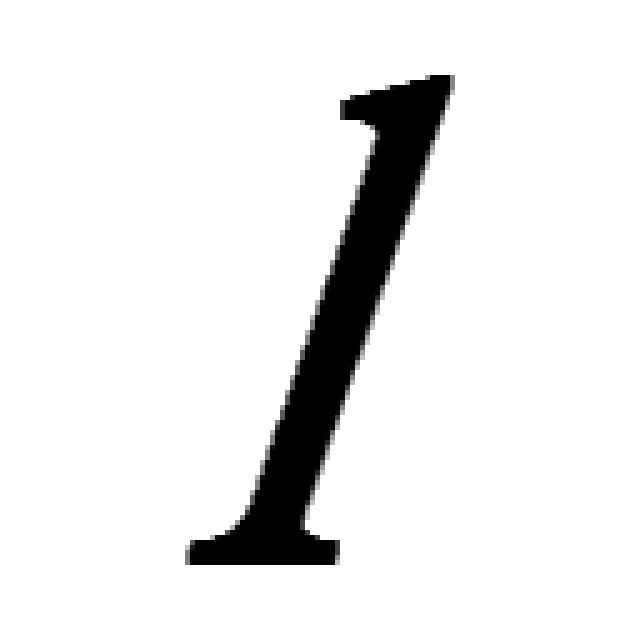L: (183, 75, 455, 573)
